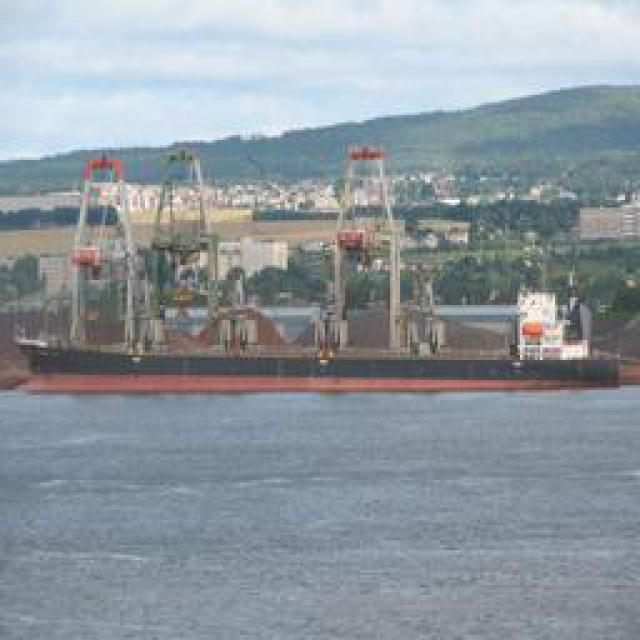Ship: (21, 304, 631, 389)
